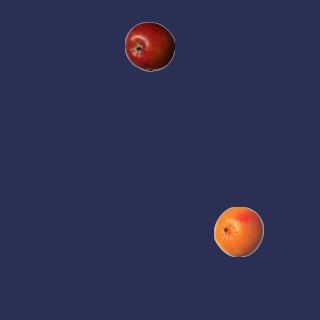Apple Braeburn: (124, 21, 174, 71)
Grapefruit Pink: (213, 206, 263, 256)
